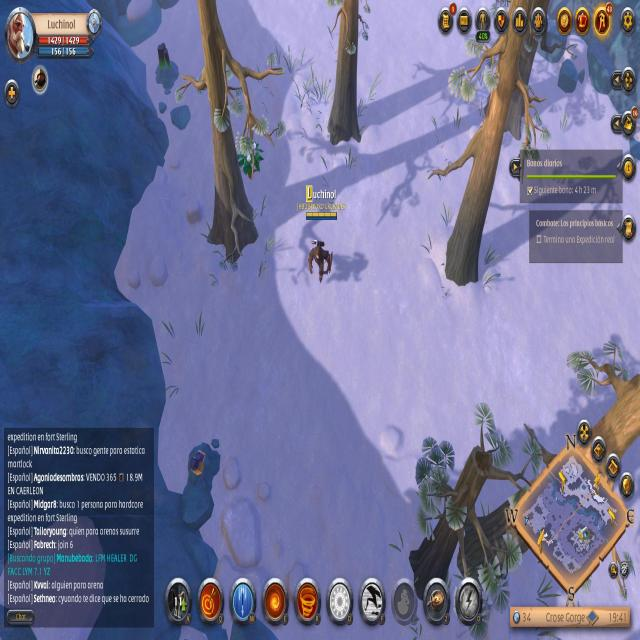piedra_cobre: (184, 433, 218, 493)
